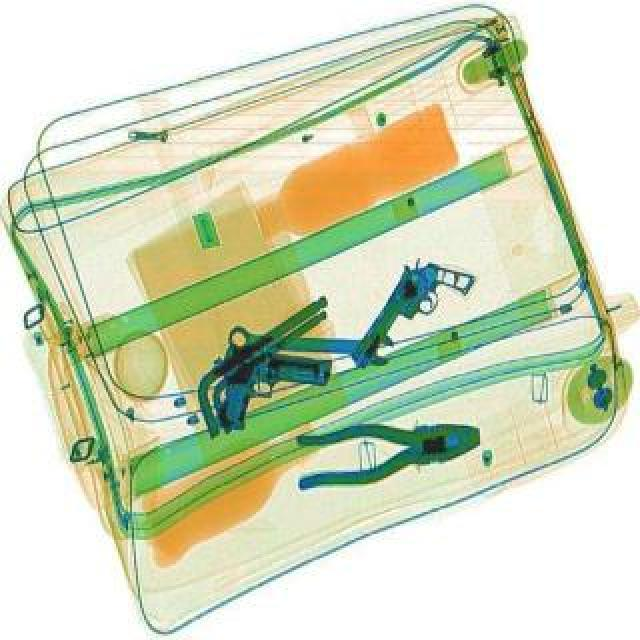gun: (348, 250, 476, 394), (204, 344, 334, 444)
scissors: (224, 324, 392, 368)
wrench: (288, 412, 484, 496)
